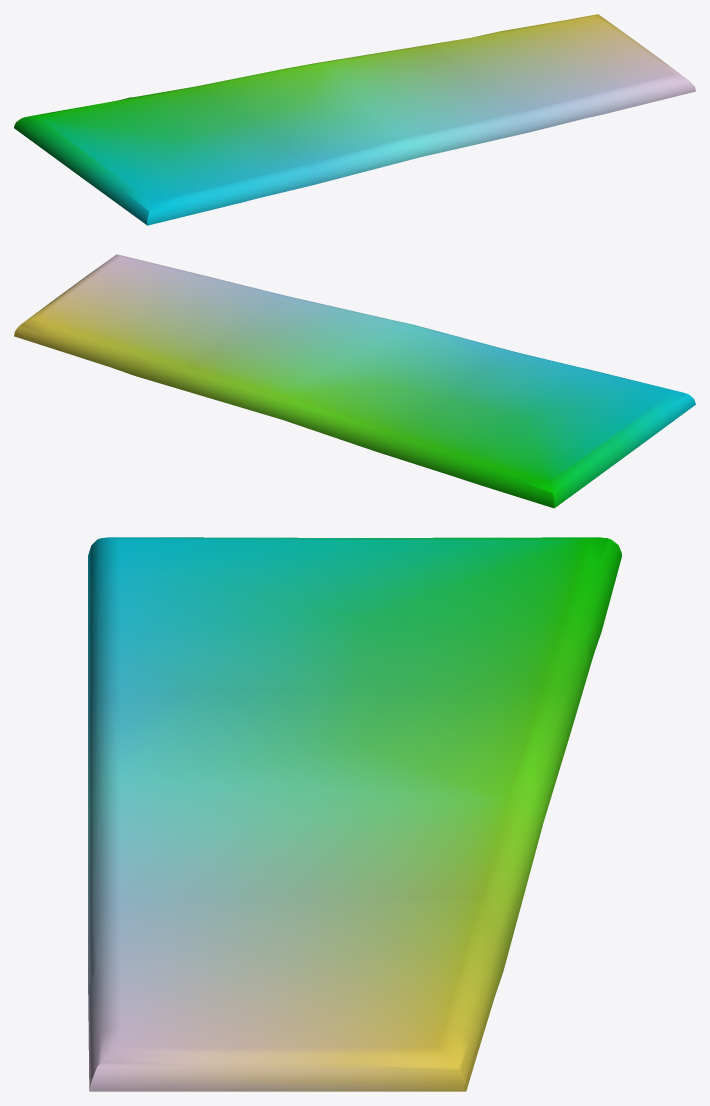
The model's file is SM_ROAD_19_5__7_19_buffer.FBX.
The picture shows the model from 3 angles, top to bottom: view 1: azimuth 30°, elevation 25°; view 2: azimuth 150°, elevation 25°; view 3: azimuth 270°, elevation 25°; orthographic projection. The views are drawn at different scales.
Parts seen in each view (by area): view 1: SM_ROAD_19_5__7_19_buffer; view 2: SM_ROAD_19_5__7_19_buffer; view 3: SM_ROAD_19_5__7_19_buffer.
Part boxes in pixels (<box>): SM_ROAD_19_5__7_19_buffer: <box>14,14,695,225</box>; SM_ROAD_19_5__7_19_buffer: <box>14,254,695,508</box>; SM_ROAD_19_5__7_19_buffer: <box>88,537,621,1091</box>.
Size of the model in its own units: 2005 by 845 by 60.25.
